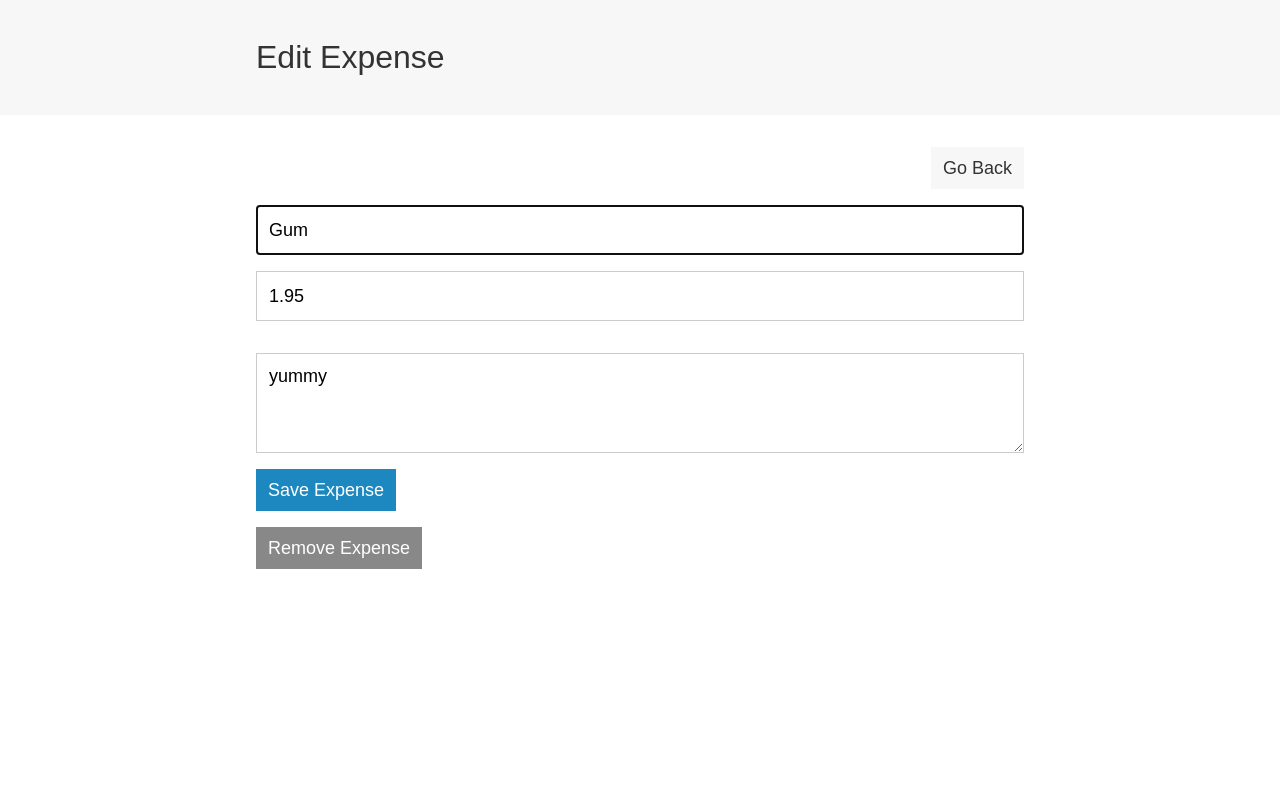
Test: should handle start remove expense
This screenshot has width=1280, height=800.
Click the button "Remove Expense" at [339, 548], box [256,527,422,569]
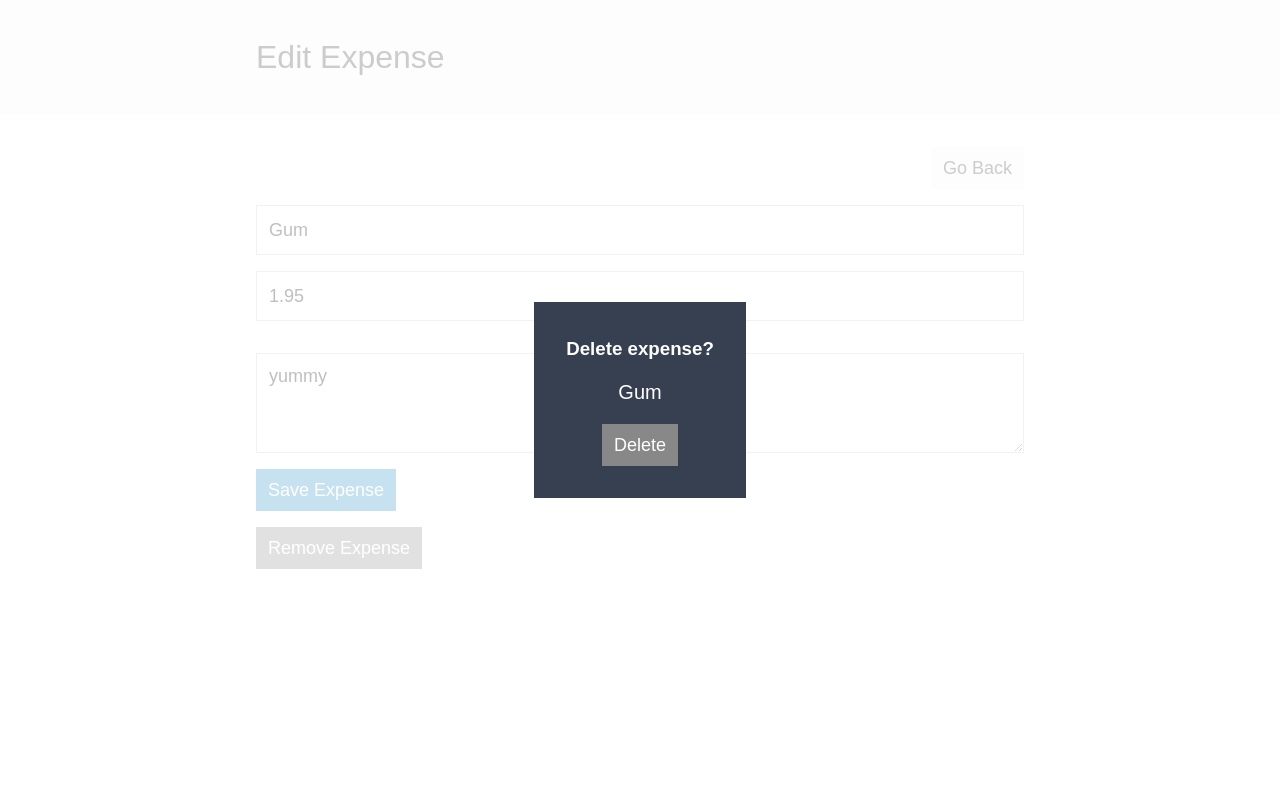
Check: the text "Gum" is shown, box [618,381,662,403]
